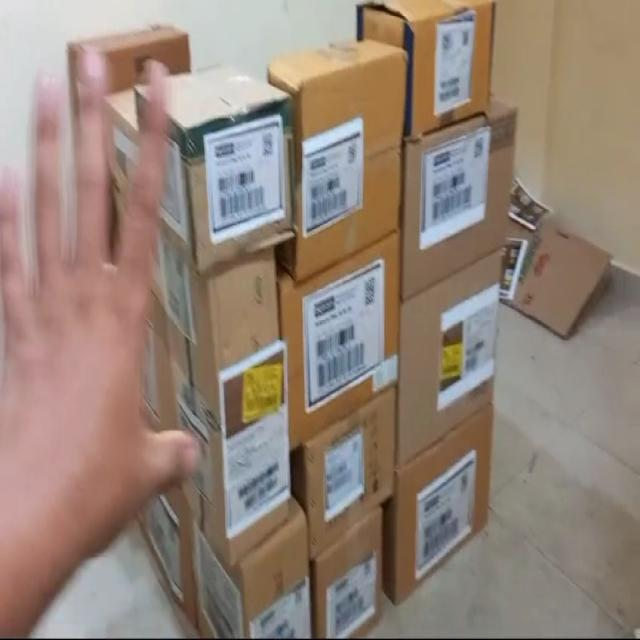BoxFace: (154, 243, 293, 571), (270, 42, 411, 274), (401, 247, 509, 488), (289, 232, 401, 449), (390, 401, 492, 633), (401, 108, 518, 302), (358, 3, 502, 140), (180, 97, 294, 269), (186, 499, 308, 640), (303, 388, 395, 565), (305, 510, 383, 640)
